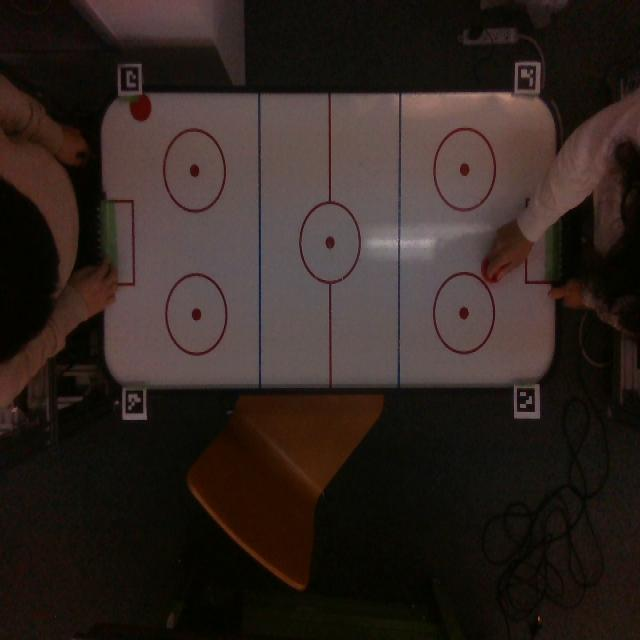puck: (130, 93, 151, 121)
